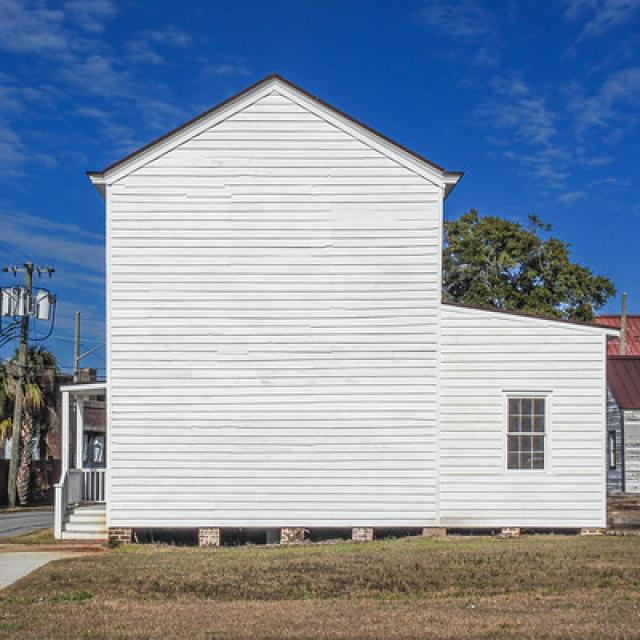Normal_building: (81, 74, 614, 531)
